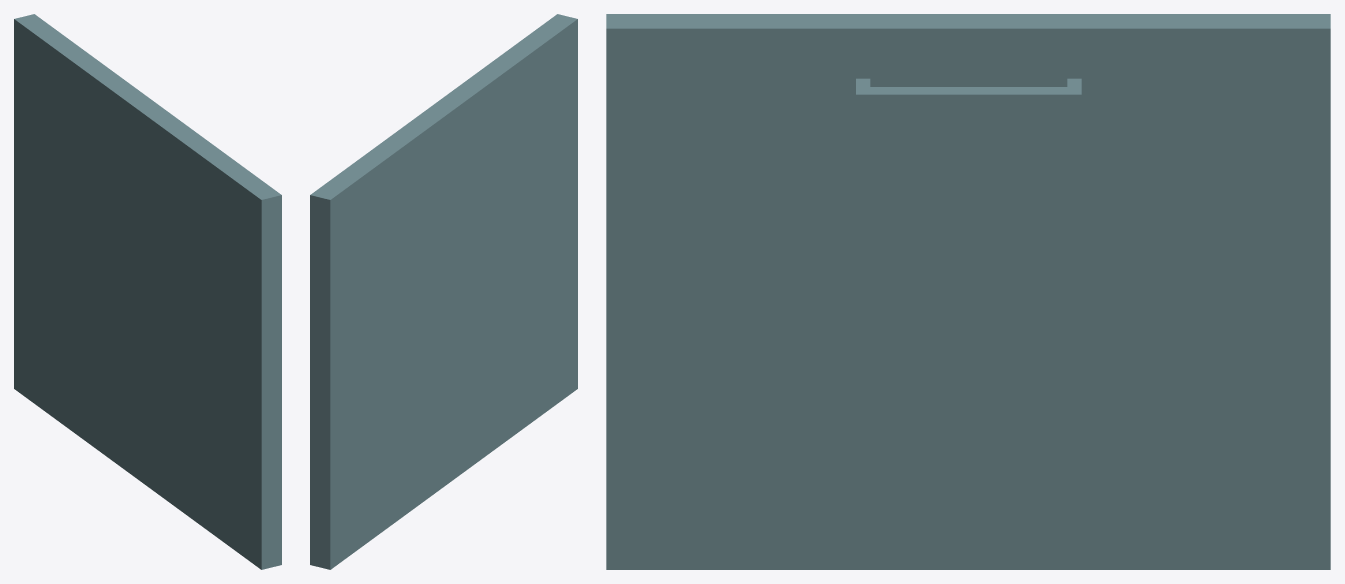
The model's file is Cabinet_Big_Door.004.fbx.
3 views of the same model, side by side, from view 1: azimuth 30°, elevation 25°; view 2: azimuth 150°, elevation 25°; view 3: azimuth 270°, elevation 25° (orthographic). The views are drawn at different scales.
Visible parts, largest first — view 1: Cabinet_Big_Door.004; view 2: Cabinet_Big_Door.004; view 3: Cabinet_Big_Door.004.
Boxes of the visible parts, bbox=[...] form: Cabinet_Big_Door.004: bbox=[14, 14, 281, 569]; Cabinet_Big_Door.004: bbox=[310, 14, 577, 569]; Cabinet_Big_Door.004: bbox=[606, 14, 1330, 569].
Bounding box in the file's own units: 7.26 × 59.75 × 72.43.
